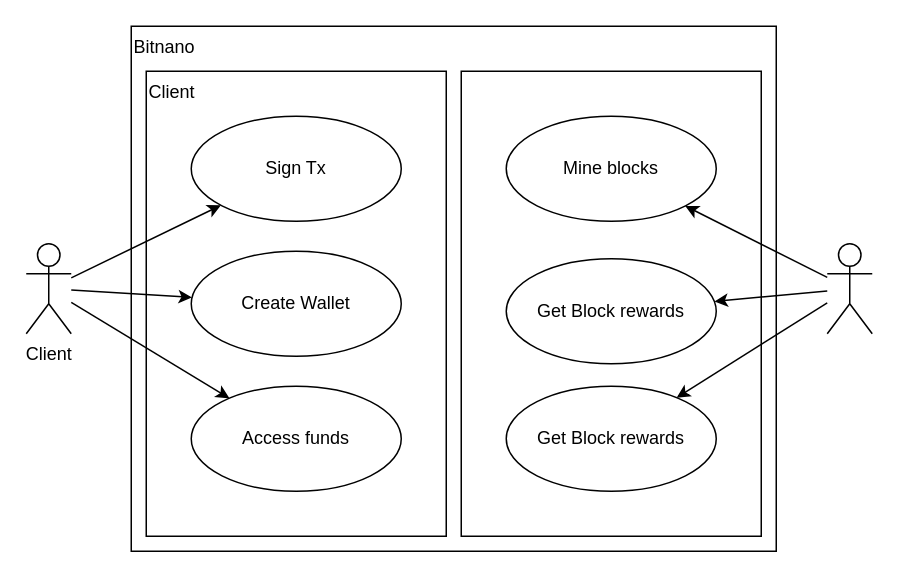
Some shapes in this 899 by 578 pixel diagram are drawn without their labels. The shapes that lost their labels are listed below. From the top down, each one's box as (x1, y1, x2, y2) in pixels, then its label:
(460, 70, 761, 536): Core
(826, 242, 872, 334): Miner
